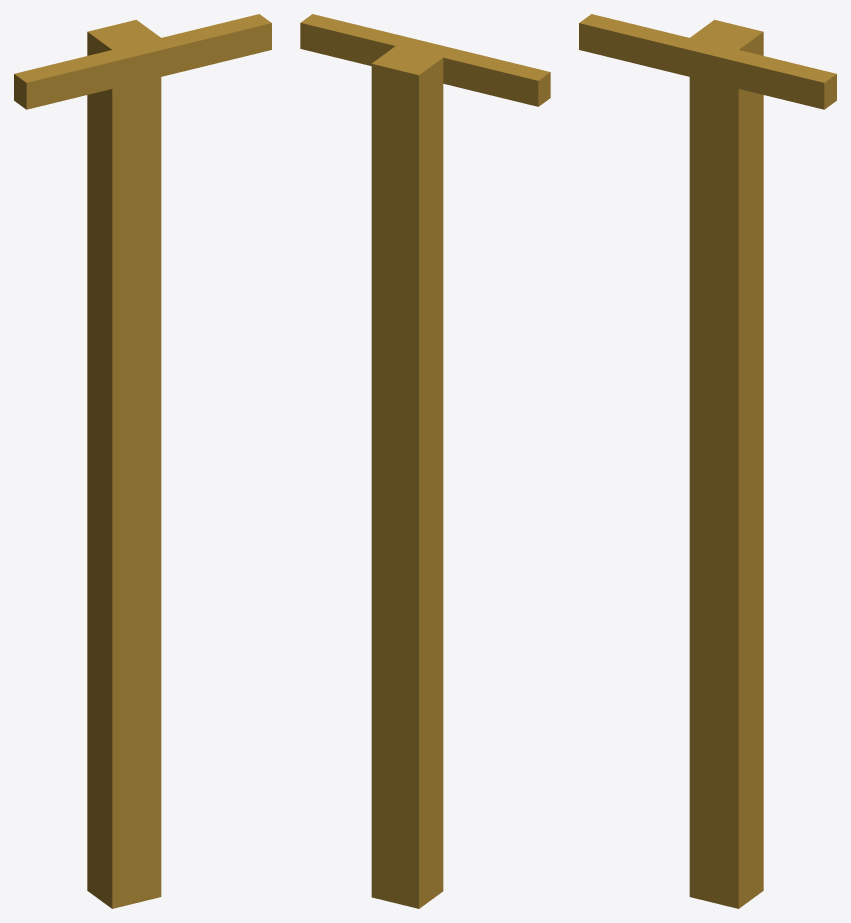
Rendered from left_high_right.glb.
3 renders of one model, left to right at view 1: azimuth 30°, elevation 25°; view 2: azimuth 150°, elevation 25°; view 3: azimuth 330°, elevation 25°, orthographic. The views are drawn at different scales.
Parts seen in each view (by area): view 1: Maxis-3d2-mesh-43; view 2: Maxis-3d2-mesh-43; view 3: Maxis-3d2-mesh-43.
Part boxes in pixels (x1,y1,x2,y2): Maxis-3d2-mesh-43: (14, 14, 271, 908); Maxis-3d2-mesh-43: (300, 14, 550, 908); Maxis-3d2-mesh-43: (579, 14, 836, 908).
Bounding box in the file's own units: 4.78 × 16 × 1.26.
